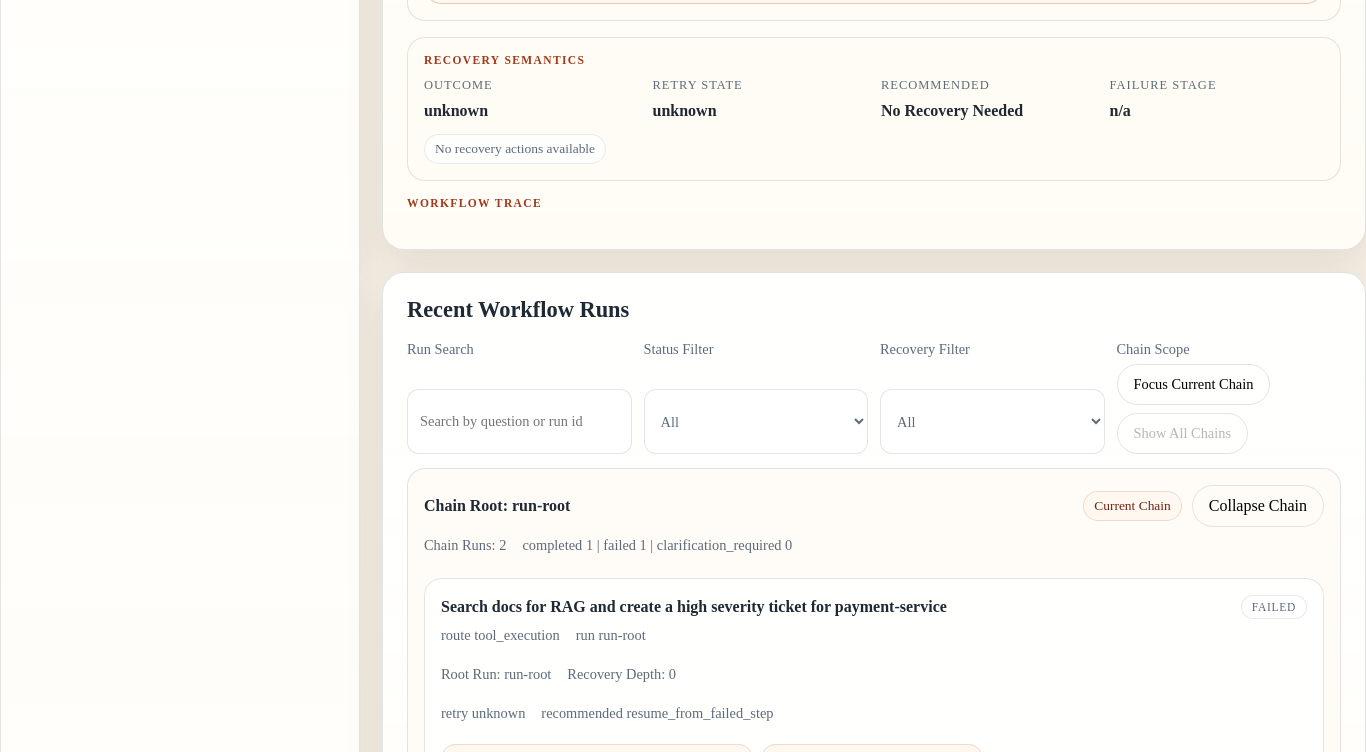
Test: QueryView › focuses recent workflow runs on the current recovery chain
(page scrolled)
Click the button "Focus Current Chain" at (1193, 385), box [1116,364,1270,405]
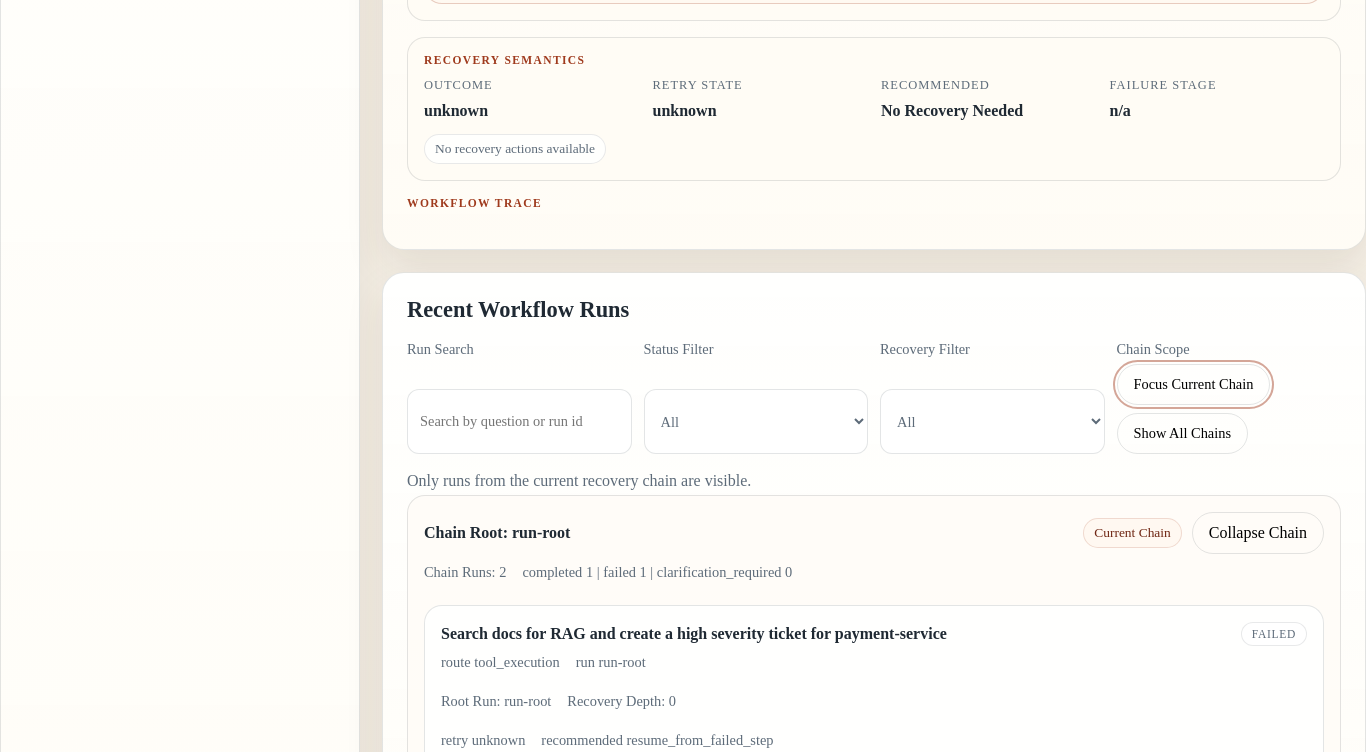
Result: the text "Only runs from the current recovery chain are visible." is shown at [407,472,751,489]
Click the button "Show All Chains" at (1182, 434), box [1116,413,1248,454]
(page scrolled)
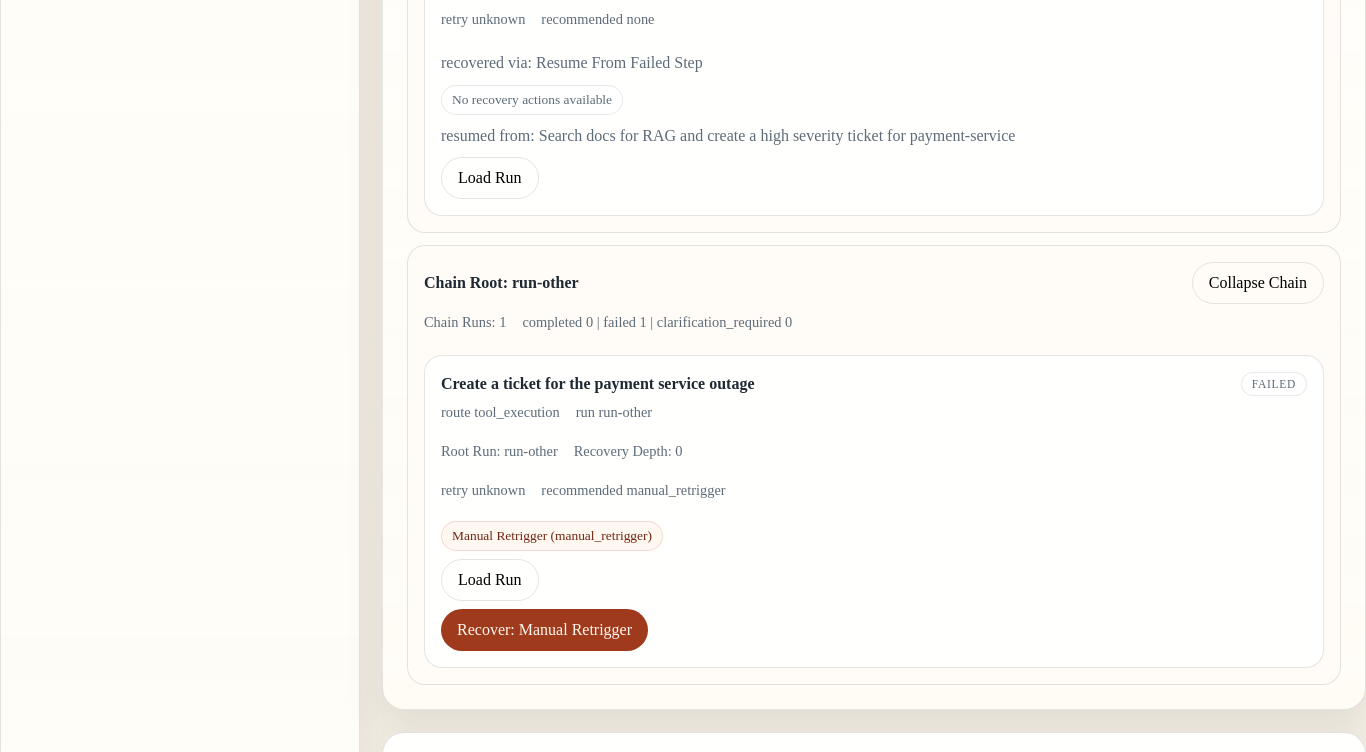
Result: the text "Create a ticket for the payment service outage" is shown at [441,375,754,393]
